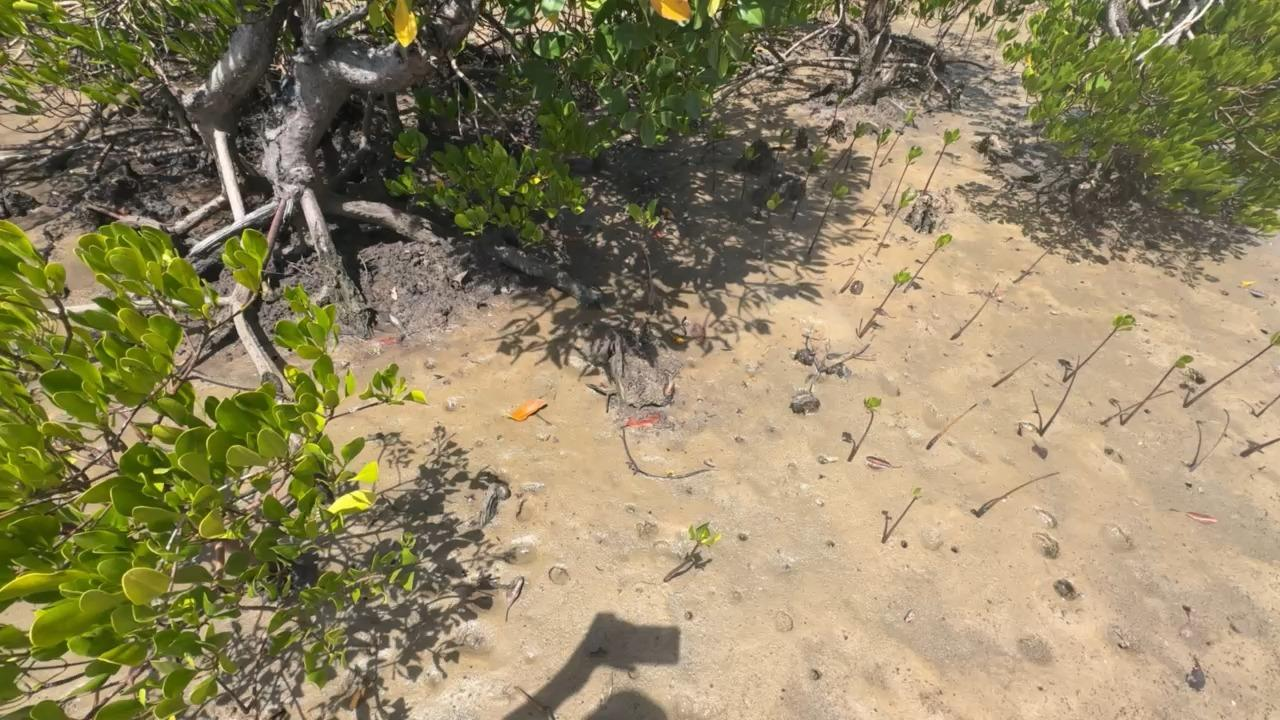Tree: (1185, 331, 1280, 408), (1120, 354, 1194, 426), (1062, 314, 1135, 382), (625, 197, 660, 310), (858, 266, 911, 337), (663, 520, 720, 581), (903, 232, 951, 295), (873, 187, 915, 256), (808, 181, 847, 252), (792, 146, 826, 223), (924, 126, 961, 190), (882, 487, 922, 544), (847, 397, 882, 462), (880, 110, 916, 166), (890, 145, 923, 206), (760, 193, 784, 259), (867, 127, 891, 189), (707, 121, 727, 194), (739, 145, 760, 204), (770, 127, 791, 183)
